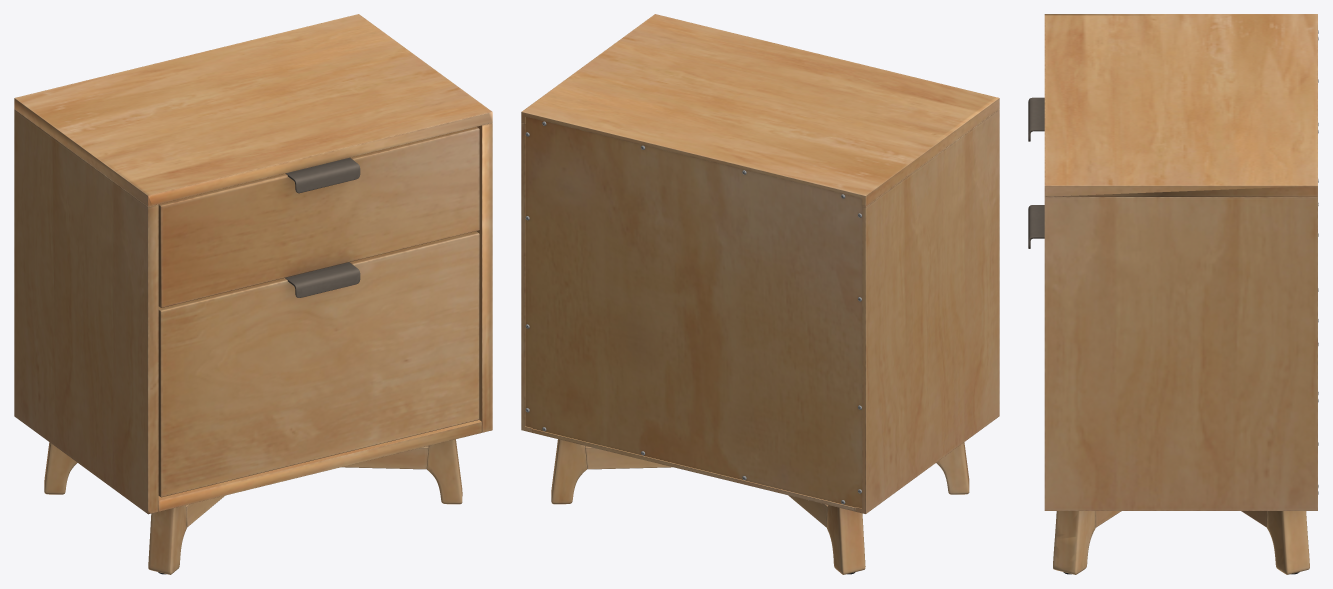
3 renders of one model, left to right at view 1: azimuth 30°, elevation 25°; view 2: azimuth 150°, elevation 25°; view 3: azimuth 270°, elevation 25°, orthographic. The views are drawn at different scales.
Visible parts, largest first — view 1: RootNode; view 2: RootNode; view 3: RootNode.
Boxes of the visible parts, box(x1,y1,x2,y2) form: RootNode: box(14, 14, 492, 574); RootNode: box(521, 14, 999, 574); RootNode: box(1028, 14, 1318, 574).
Bounding box in the file's own units: 0.5508 × 0.599 × 0.3934.
Materials: 1 (1 with a texture image).
